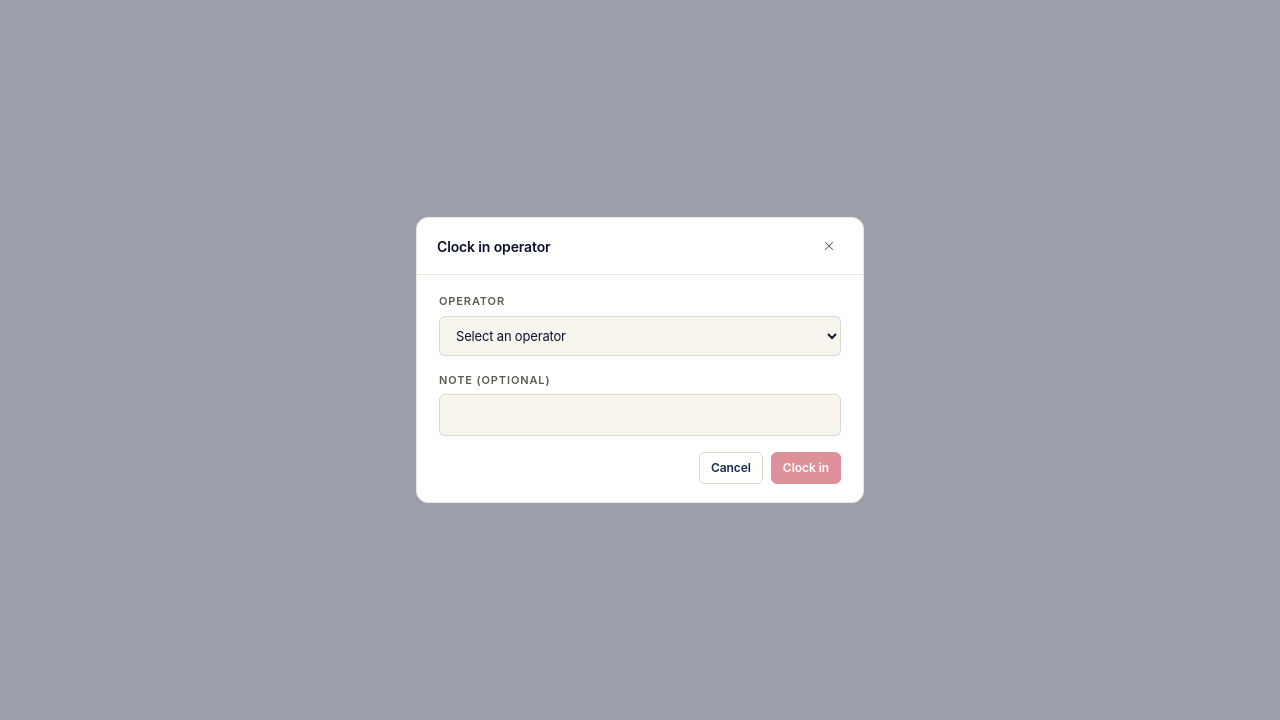
Test: Phase-09 §8 component-render: ClockInDialog (dir=ltr) › surfaces the raw error.message in the banner and does NOT close the dialog on failure
Select "Neda" in the dropdown labelled "Operator". click: (640, 336)
box: x1=439 y1=316 x2=841 y2=356
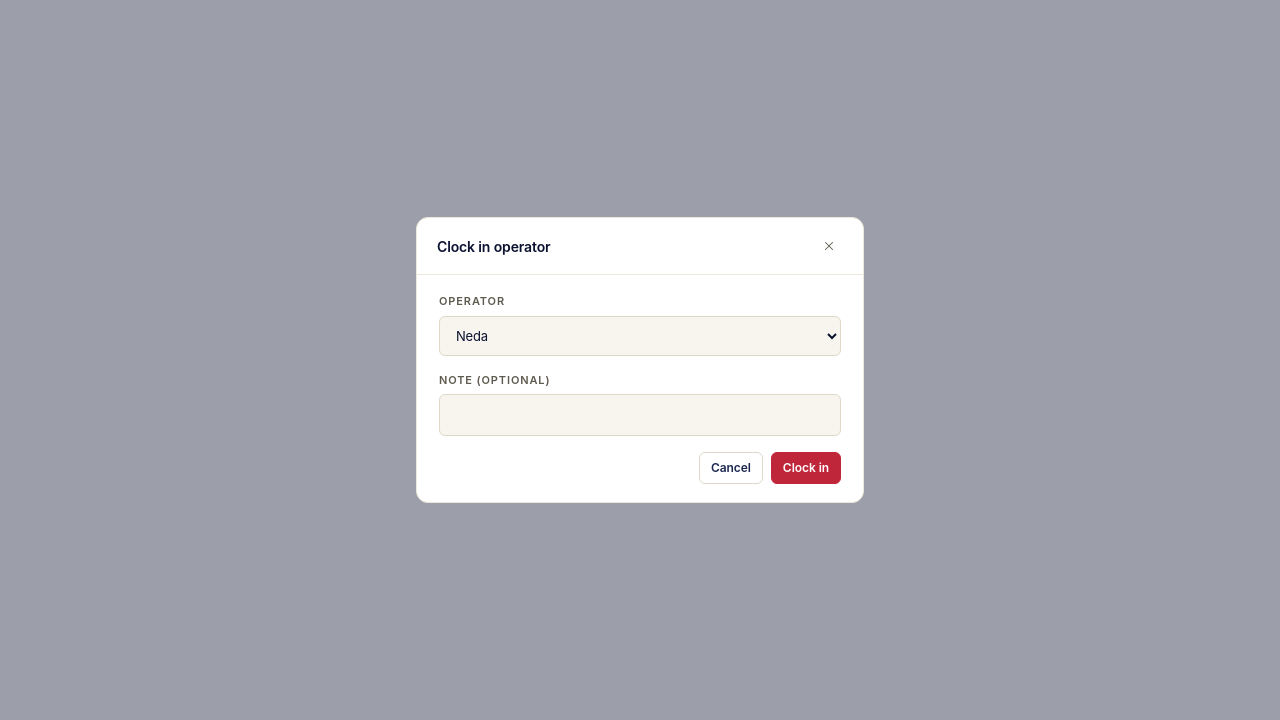
Submit the form, box x1=416 y1=217 x2=864 y2=503
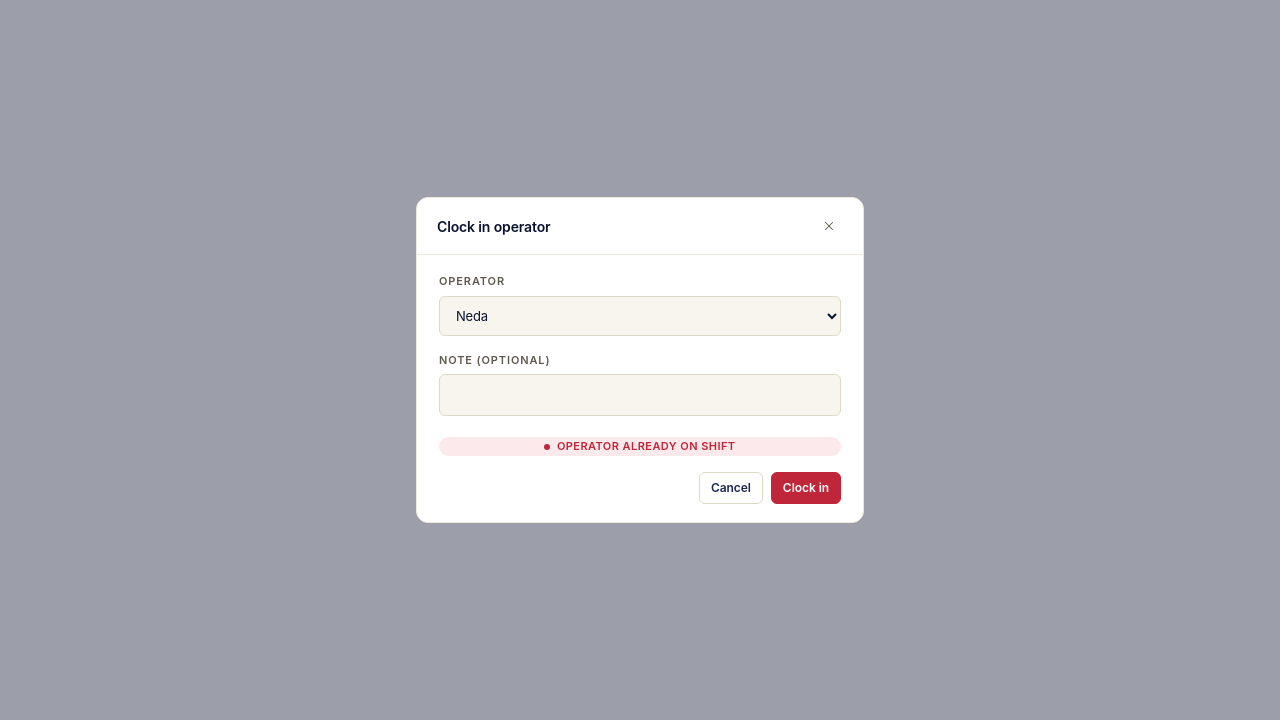
Check: the form shows "operator already on shift", box x1=557 y1=439 x2=736 y2=453
